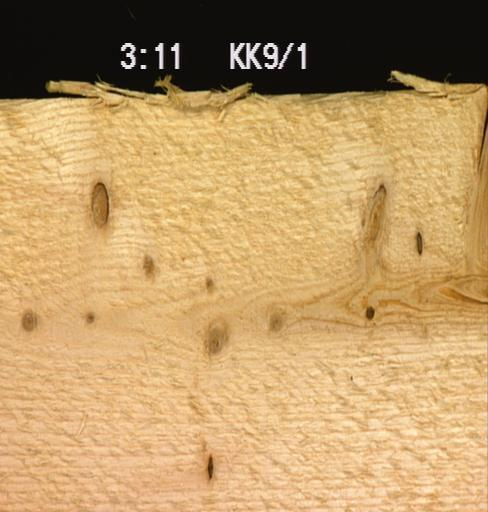dry_knot: (88, 180, 108, 228), (204, 451, 213, 480)
small_knot: (140, 252, 156, 284), (81, 305, 98, 327), (363, 304, 375, 320)
sound_knot: (200, 318, 230, 354), (267, 309, 283, 333), (19, 310, 34, 332), (204, 274, 218, 295)
